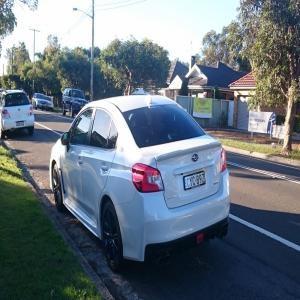Vehicle-registration-plate: (182, 171, 209, 197), (18, 123, 25, 128)
